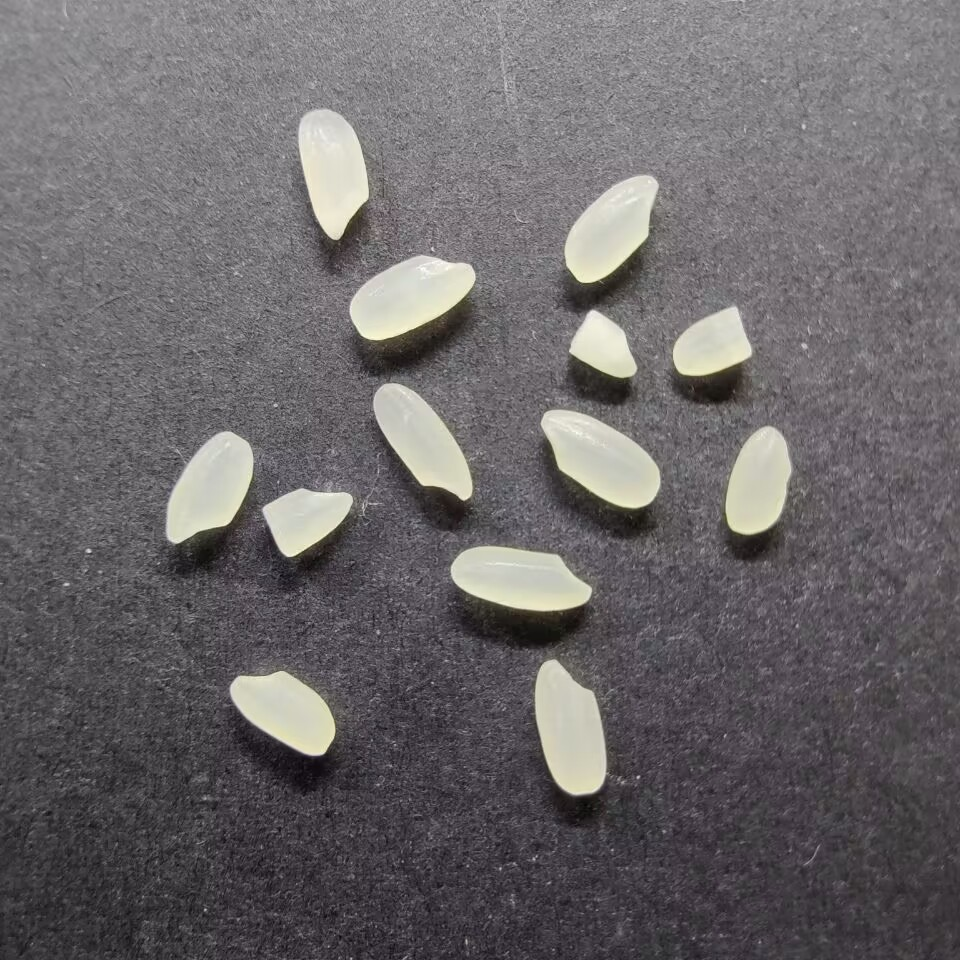broken: (257, 485, 356, 559), (669, 302, 755, 379), (566, 306, 638, 380)
rice: (538, 406, 663, 510), (371, 381, 473, 502), (347, 252, 477, 343), (561, 174, 659, 285), (533, 656, 609, 798), (164, 429, 255, 546), (296, 108, 370, 242), (449, 546, 595, 612), (229, 670, 336, 758), (723, 425, 793, 536)
